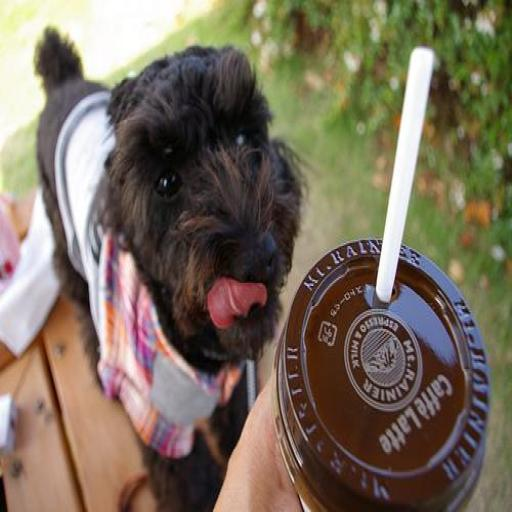dog_face: (117, 62, 282, 332)
